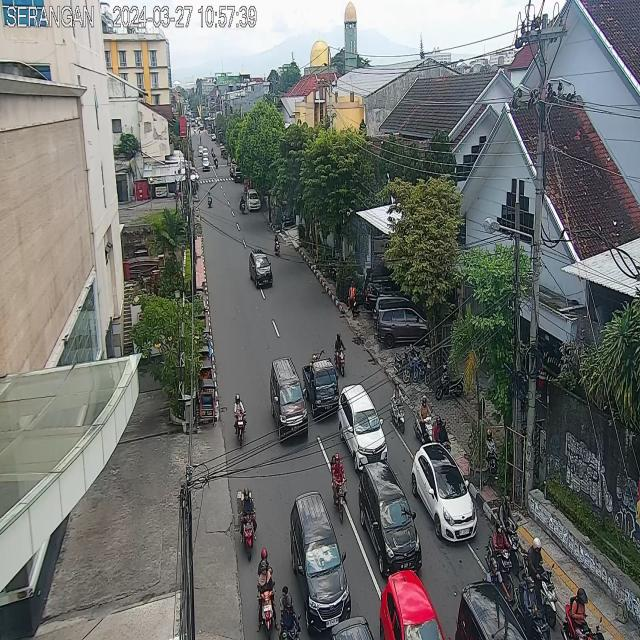car: (290, 494, 352, 636), (359, 461, 426, 575), (412, 441, 478, 539), (380, 567, 445, 640), (338, 386, 388, 471), (458, 583, 528, 640), (270, 357, 308, 442), (249, 249, 273, 288), (247, 189, 260, 210)
motorcycle: (522, 536, 558, 630), (487, 517, 517, 603), (562, 580, 604, 640), (253, 548, 280, 640), (512, 577, 549, 640), (494, 494, 522, 576), (236, 482, 257, 564), (329, 450, 350, 526), (481, 556, 511, 605), (278, 583, 302, 640), (412, 394, 435, 445), (230, 390, 249, 448), (388, 379, 407, 434), (433, 414, 452, 457), (333, 330, 348, 378), (273, 233, 282, 258), (240, 195, 247, 214), (207, 189, 213, 208)
truck: (303, 351, 339, 417)
